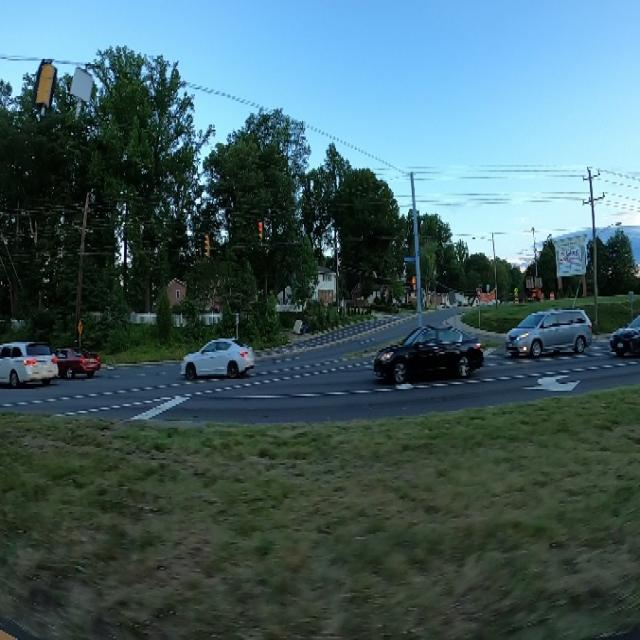car: (372, 317, 483, 393), (497, 296, 597, 357), (169, 330, 256, 382), (0, 327, 58, 396), (37, 329, 106, 383), (610, 301, 640, 365)
